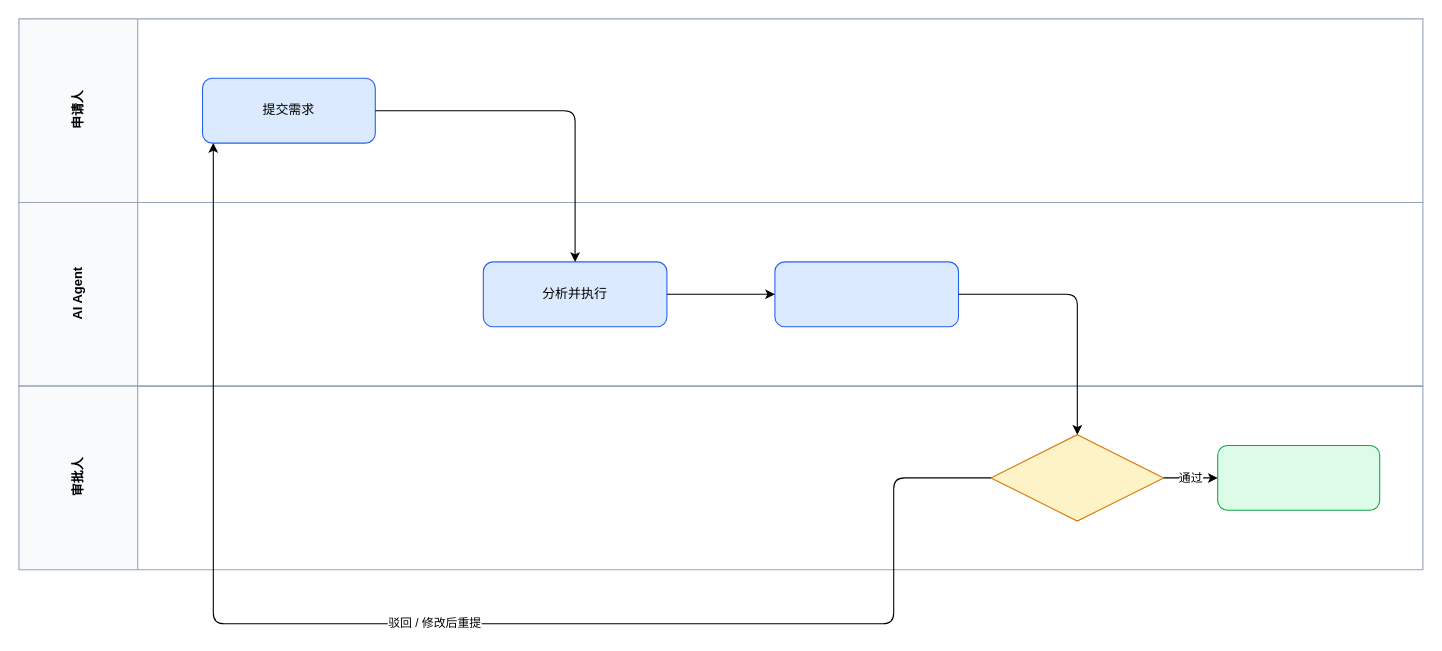
Some shapes in this 1442 by 651 pixel diagram are drawn without their labels. Each missing label, with the centre of its shape:
候选结果: (x=866, y=294)
完成: (x=1298, y=477)
审批？: (x=1077, y=477)
